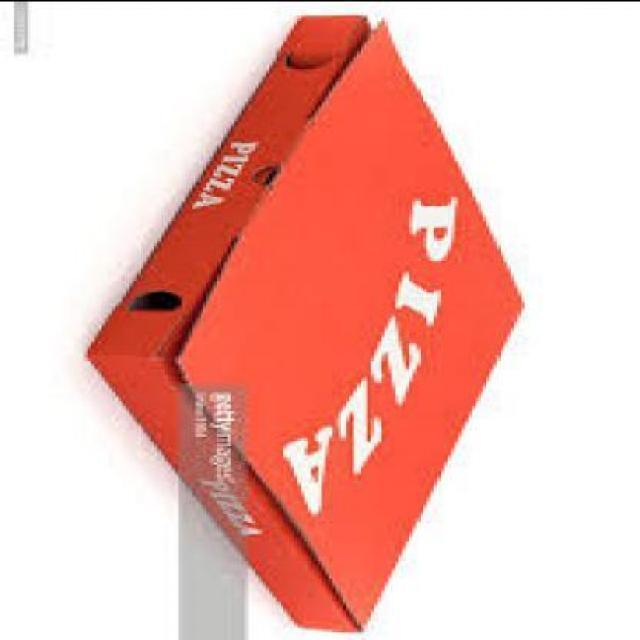box: (83, 1, 530, 640)
